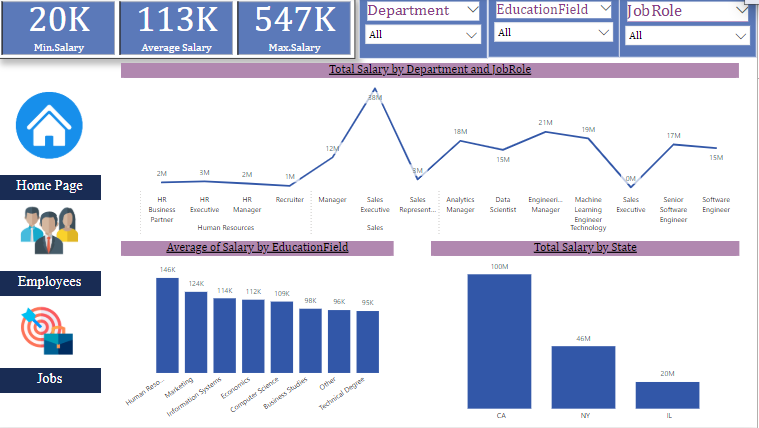

Layout of this report page (visuals, bound fields, positions):
{"tool":"powerbi","page":{"name":"Salary","canvas":[1280,720],"ordinal":3},"visuals":[{"type":"image","box":[10,153.3,162.9,121.6],"z":0,"group":"g1"},{"type":"group","id":"g1","title":"Group 1","box":[5,153.3,173.3,510],"z":0},{"type":"image","box":[38.6,453.6,97.4,210],"z":1000,"group":"g1"},{"type":"cardVisual","fields":{"Data":["_Dax Measures.Min.Salary","_Dax Measures.Average Salary","_Dax Measures.Max.Salary"]},"box":[5,0,600,101.7],"z":2000},{"type":"image","box":[36.9,298.8,109.2,182.4],"z":2000,"group":"g1"},{"type":"slicer","fields":{"Values":["Employee.JobRole"]},"box":[1048.3,0,231,100],"z":3000},{"type":"slicer","fields":{"Values":["Employee.Department"]},"box":[612.1,0,215.5,101.7],"z":4000},{"type":"textbox","box":[5,297,173,42.4],"z":4000,"group":"g1"},{"type":"slicer","fields":{"Values":["Employee.EducationField"]},"box":[827.6,0,220.7,100],"z":5000},{"type":"textbox","box":[5,459.1,173,42.4],"z":5000,"group":"g1"},{"type":"lineStackedColumnComboChart","title":"Total Salary by Department and JobRole","fields":{"Category":["Employee.Department","Employee.JobRole"],"Y2":["Sum(Employee.Salary)"]},"box":[211.7,110,1038.3,298.3],"z":6000},{"type":"textbox","box":[5,621.3,173,42.4],"z":6000,"group":"g1"},{"type":"clusteredColumnChart","fields":{"Y":["Avg(Employee.Salary)"],"Category":["Employee.EducationField"]},"box":[211.7,408.3,458.3,311.7],"z":6001},{"type":"clusteredColumnChart","title":"Total Salary by State","fields":{"Y":["Sum(Employee.Salary)"],"Category":["Employee.State"]},"box":[731.7,408.3,518.3,311.7],"z":6002}]}

Visuals, with their boxes in screenshot pixels (x1, y1, x2, y2), scaled from the page's 1280x720 canvas onto the 759x428 screenshot:
image: bbox=[6, 91, 103, 163]
"Group 1" group: bbox=[3, 91, 106, 394]
image: bbox=[23, 270, 81, 394]
cardVisual - _Dax Measures.Min.Salary x _Dax Measures.Average Salary: bbox=[3, 0, 359, 60]
image: bbox=[22, 178, 87, 286]
slicer - Employee.JobRole: bbox=[622, 0, 758, 59]
slicer - Employee.Department: bbox=[363, 0, 491, 60]
textbox: bbox=[3, 177, 106, 202]
slicer - Employee.EducationField: bbox=[491, 0, 622, 59]
textbox: bbox=[3, 273, 106, 298]
"Total Salary by Department and JobRole" lineStackedColumnComboChart: bbox=[126, 65, 741, 243]
textbox: bbox=[3, 369, 106, 395]
clusteredColumnChart - Avg(Employee.Salary) x Employee.EducationField: bbox=[126, 243, 397, 427]
"Total Salary by State" clusteredColumnChart: bbox=[434, 243, 741, 427]
